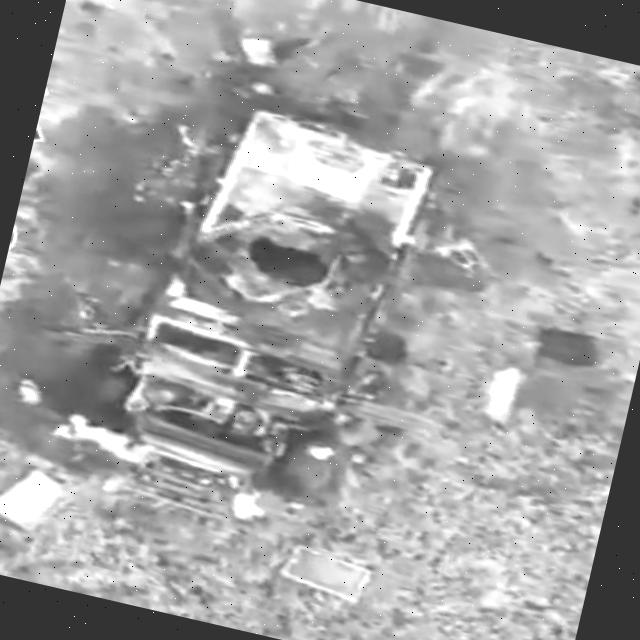Destroyed: (85, 85, 458, 525)
